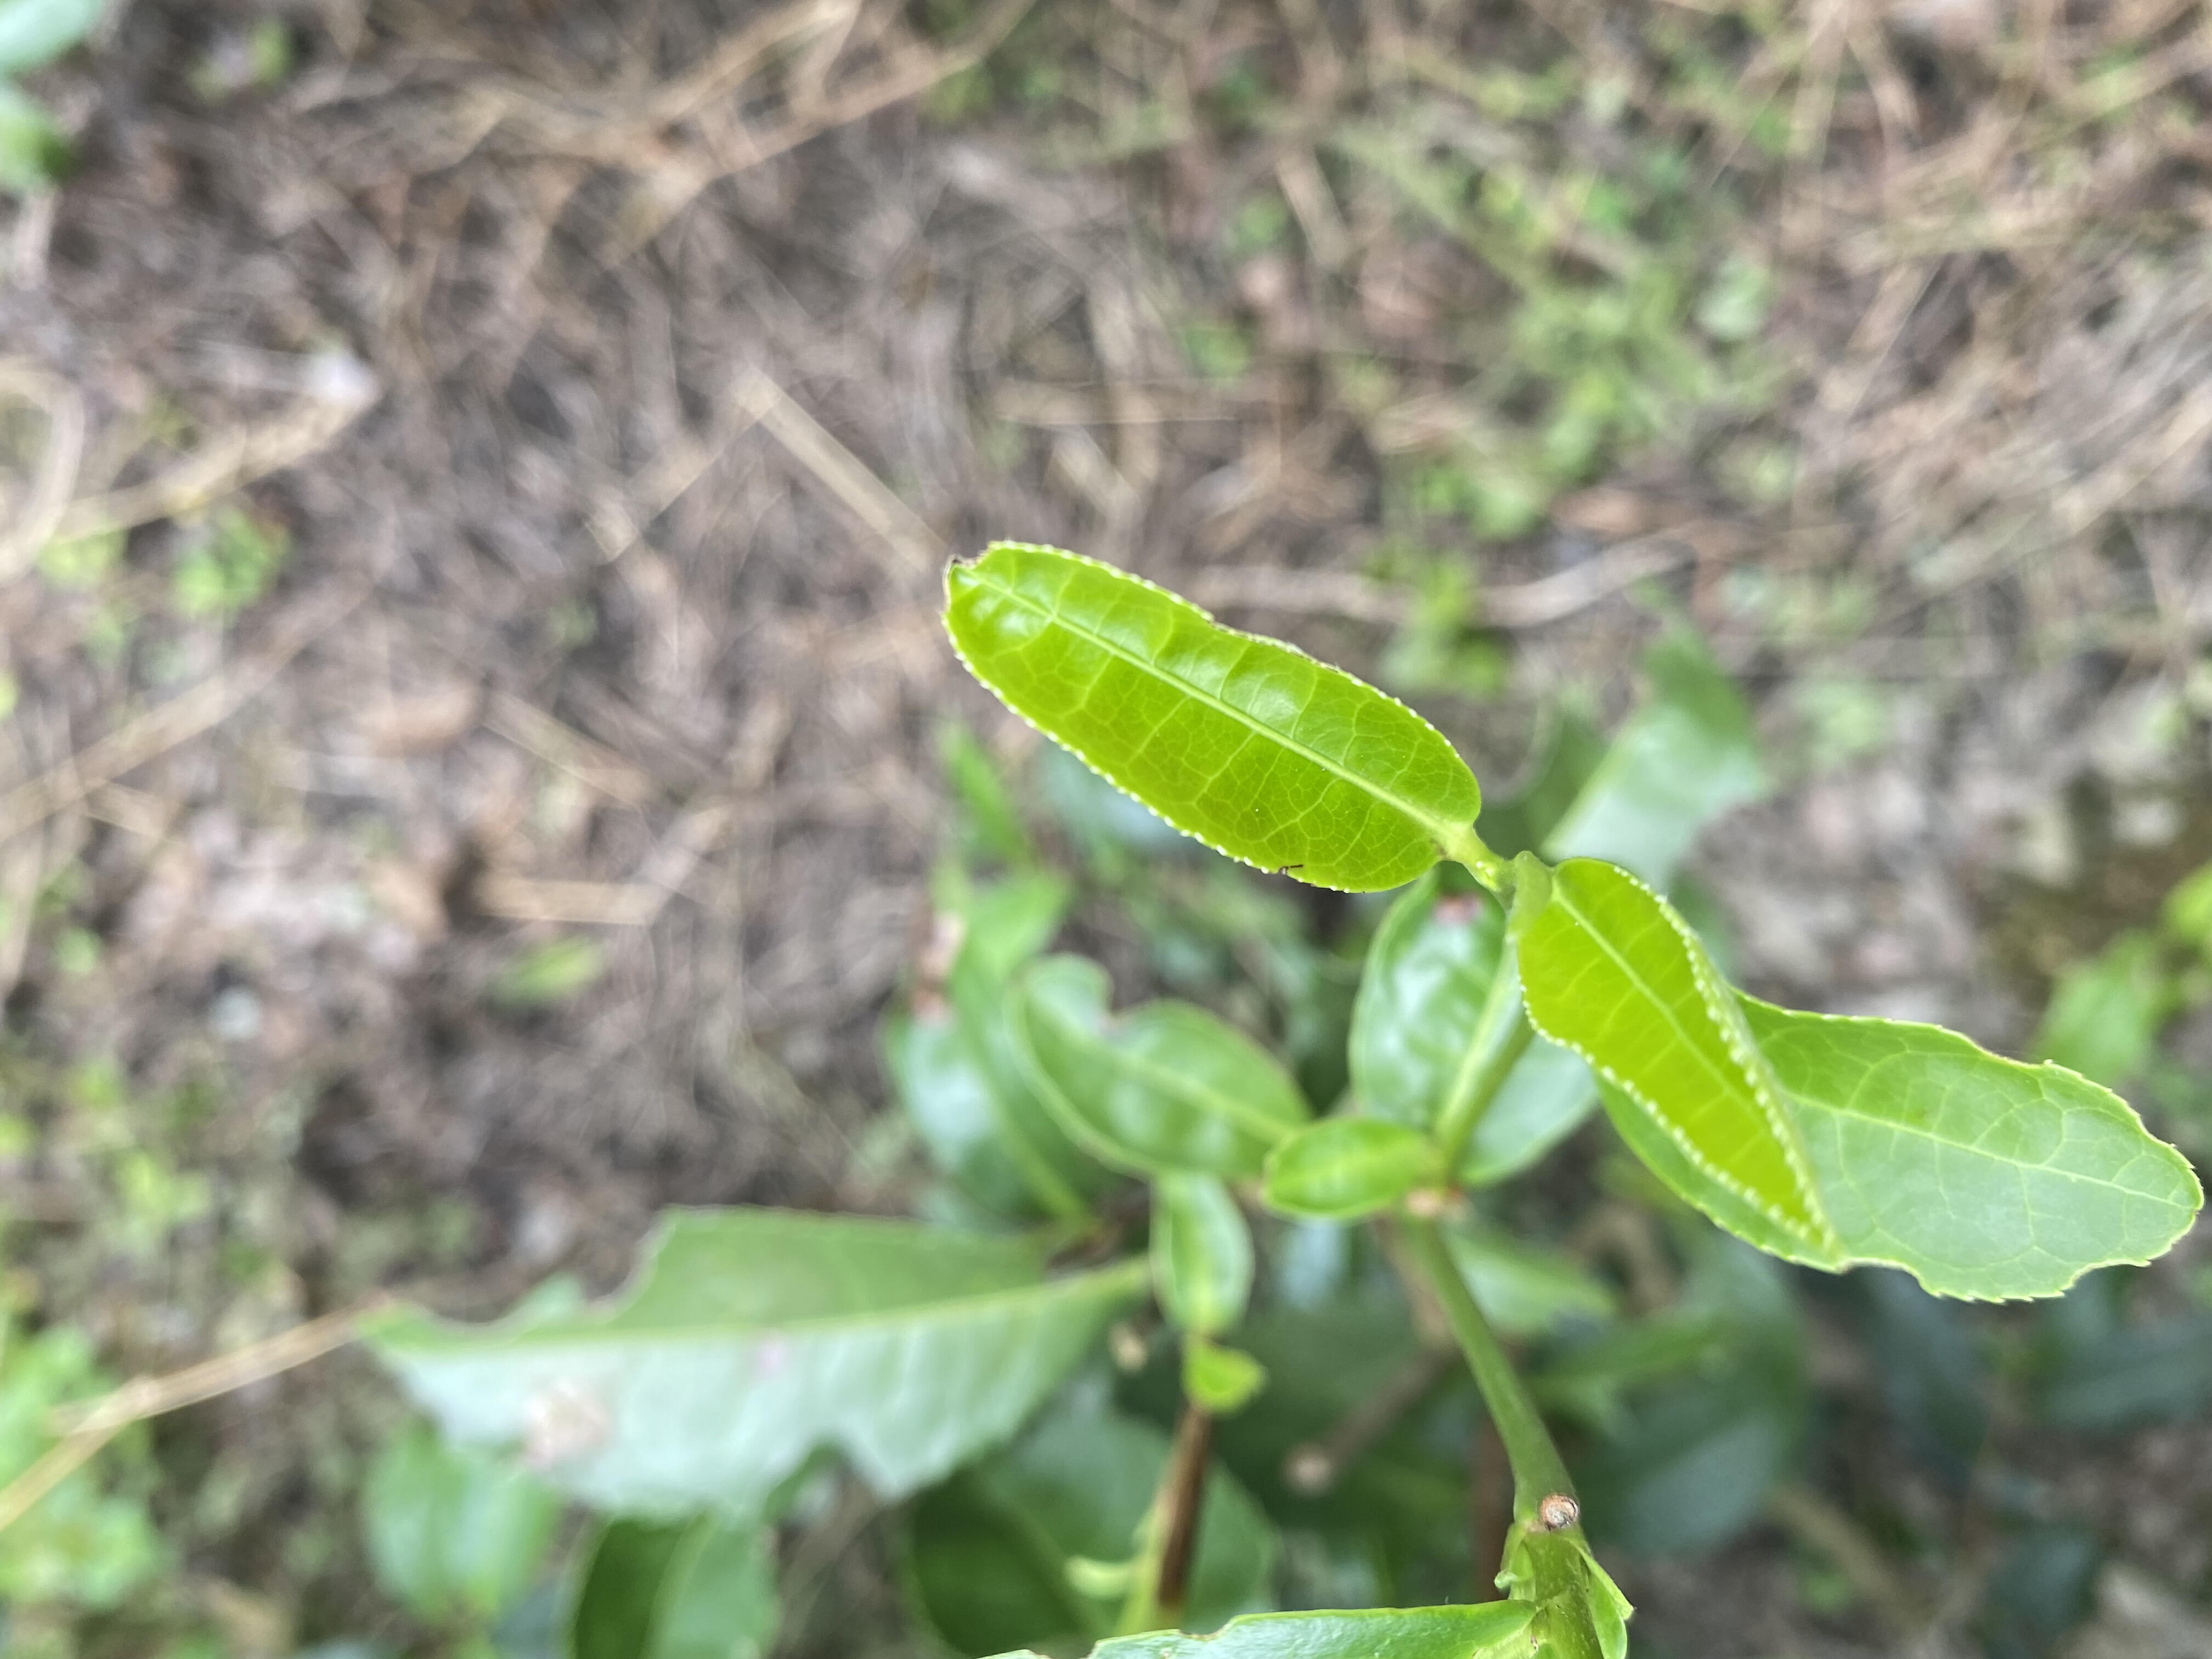chihuo_high: (1595, 986, 2207, 1305)
healthy: (935, 537, 1482, 896), (1508, 859, 1831, 1255)
